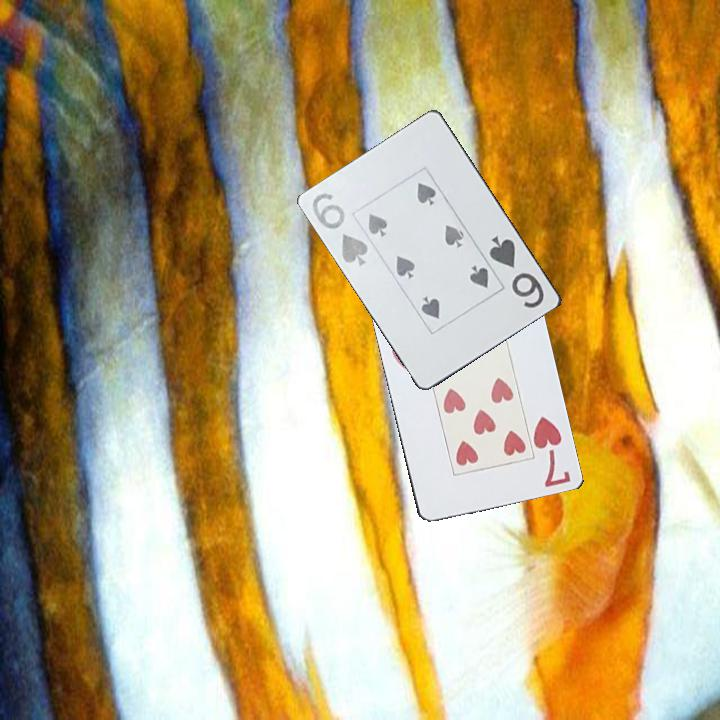6s: (309, 189, 372, 270), (486, 231, 548, 311)
7h: (529, 413, 573, 490)
